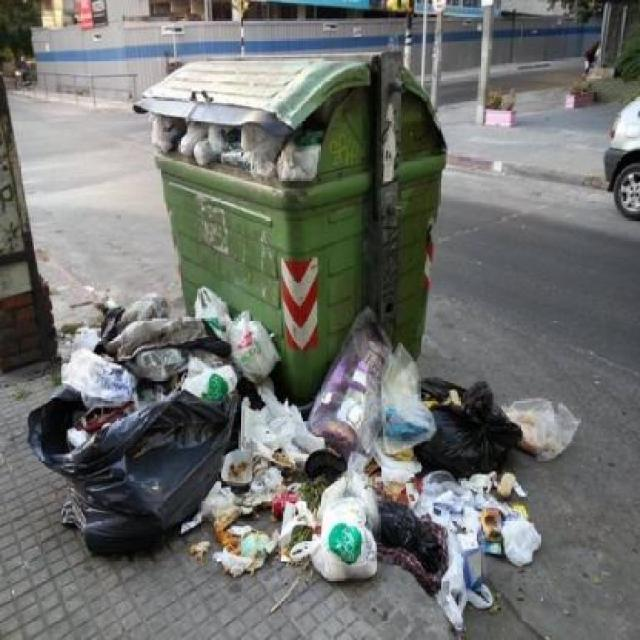garbage: (97, 300, 566, 602), (37, 350, 156, 549), (145, 109, 310, 186)
